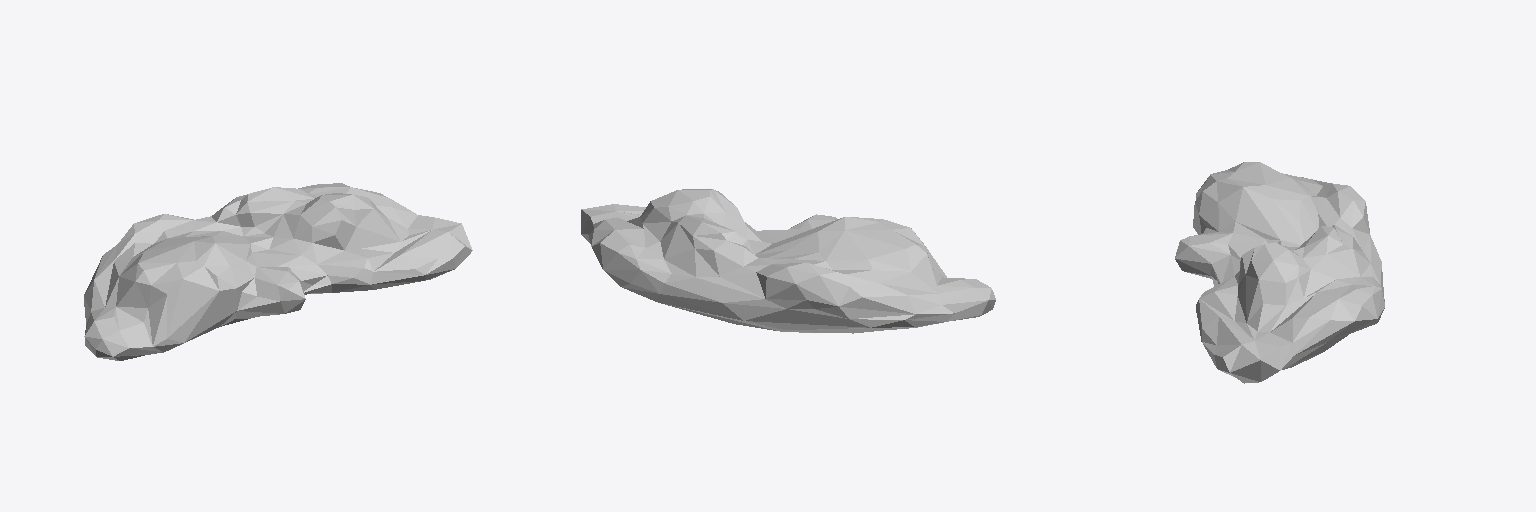
File: paintable_rock.obj
3 views of the same model, side by side, from view 1: azimuth 30°, elevation 25°; view 2: azimuth 150°, elevation 25°; view 3: azimuth 270°, elevation 25° (orthographic).
Parts seen in each view (by area): view 1: SM_Generic_Cloud_03_Mesh.010; view 2: SM_Generic_Cloud_03_Mesh.010; view 3: SM_Generic_Cloud_03_Mesh.010.
Boxes of the visible parts, x1,y1,x2,y2 form: SM_Generic_Cloud_03_Mesh.010: [84, 183, 472, 360]; SM_Generic_Cloud_03_Mesh.010: [581, 189, 995, 333]; SM_Generic_Cloud_03_Mesh.010: [1175, 162, 1384, 383].
Bounding box in the file's own units: 7.18 × 1.54 × 3.34.